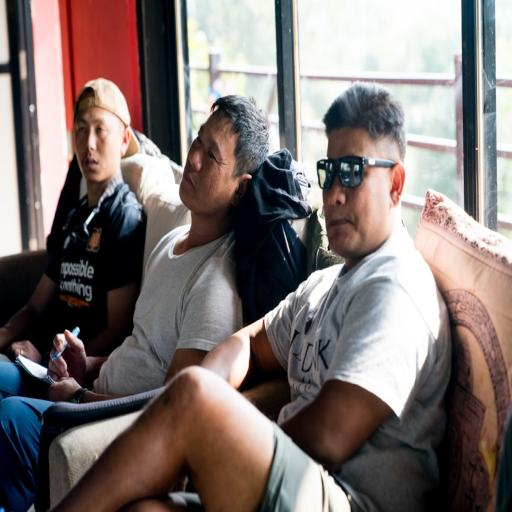face: (323, 165, 397, 268), (180, 114, 247, 215), (74, 107, 129, 184)
